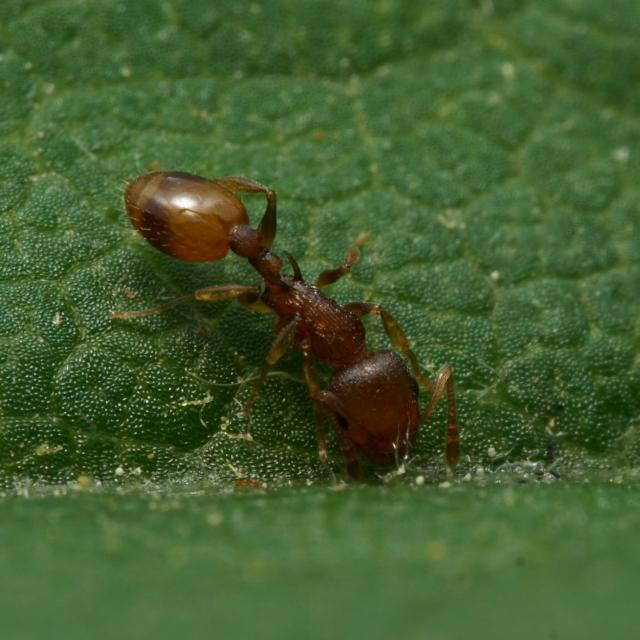Temnothorax: (110, 138, 526, 522)
